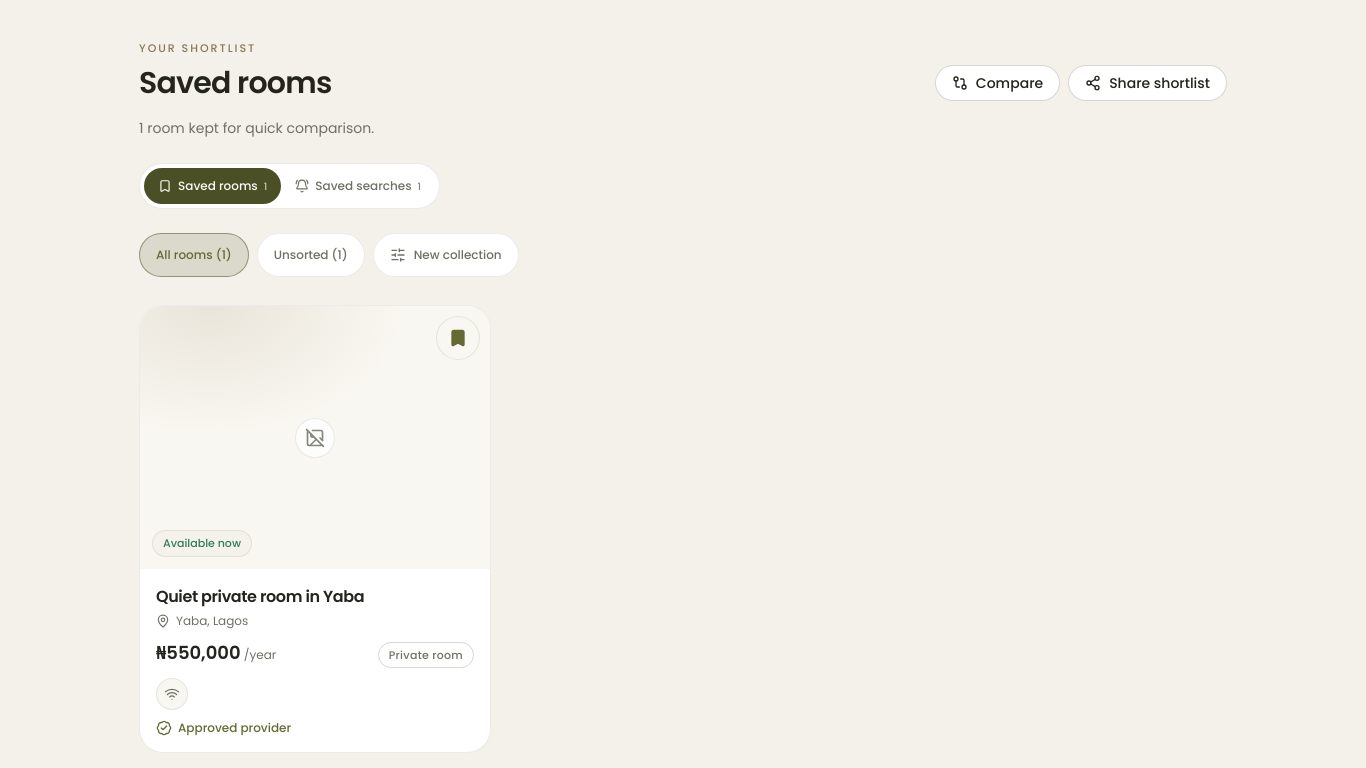
Saved searches tab › switches between rooms and searches from the view control
Expected: the link "Quiet private room in Yaba" is shown, [156,585,364,608]
Click the button "Saved searches 1".
click(358, 186)  # box [281,168,435,204]
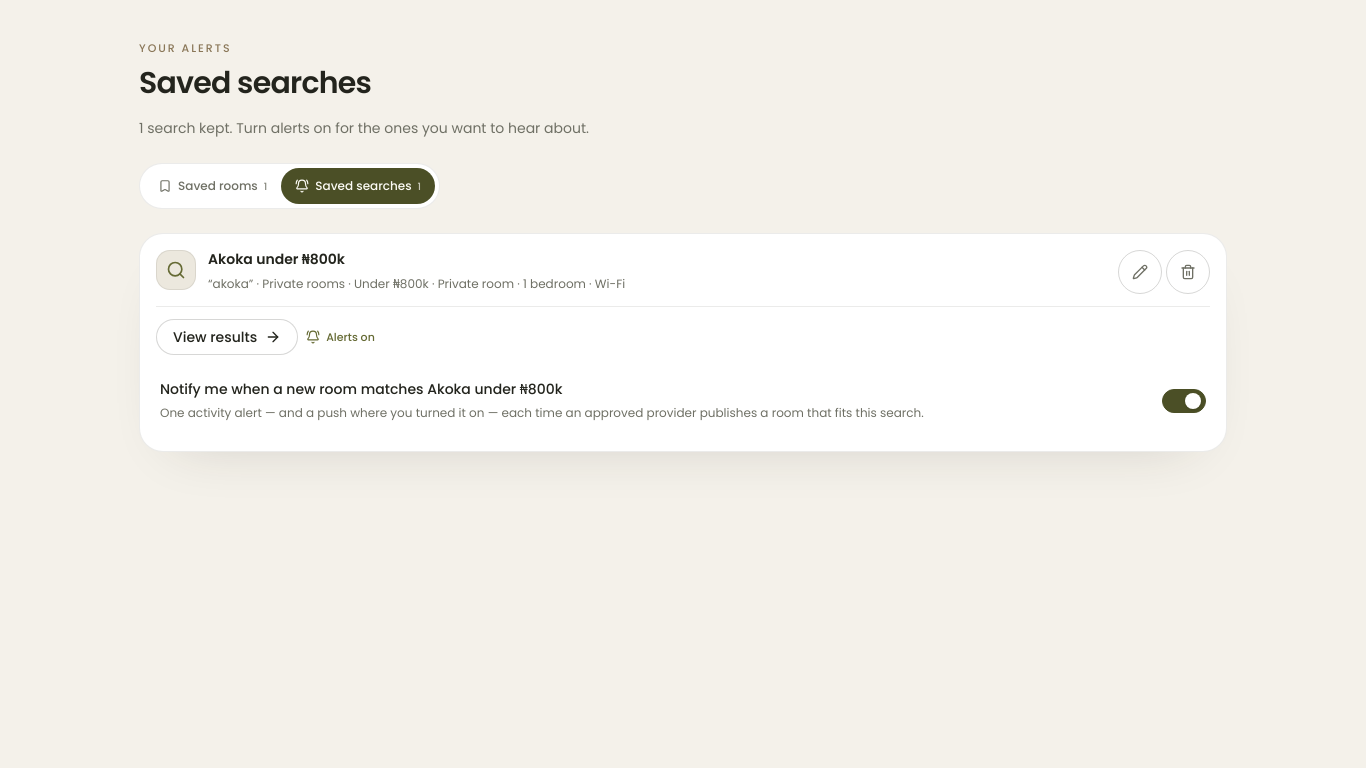
Expected: the heading "Akoka under ₦800k" is shown, [208,249,345,269]
Expected: the link "Quiet private room in Yaba" is gone
Click the button "Saved rooms 1".
click(213, 186)  # box [144,168,281,204]
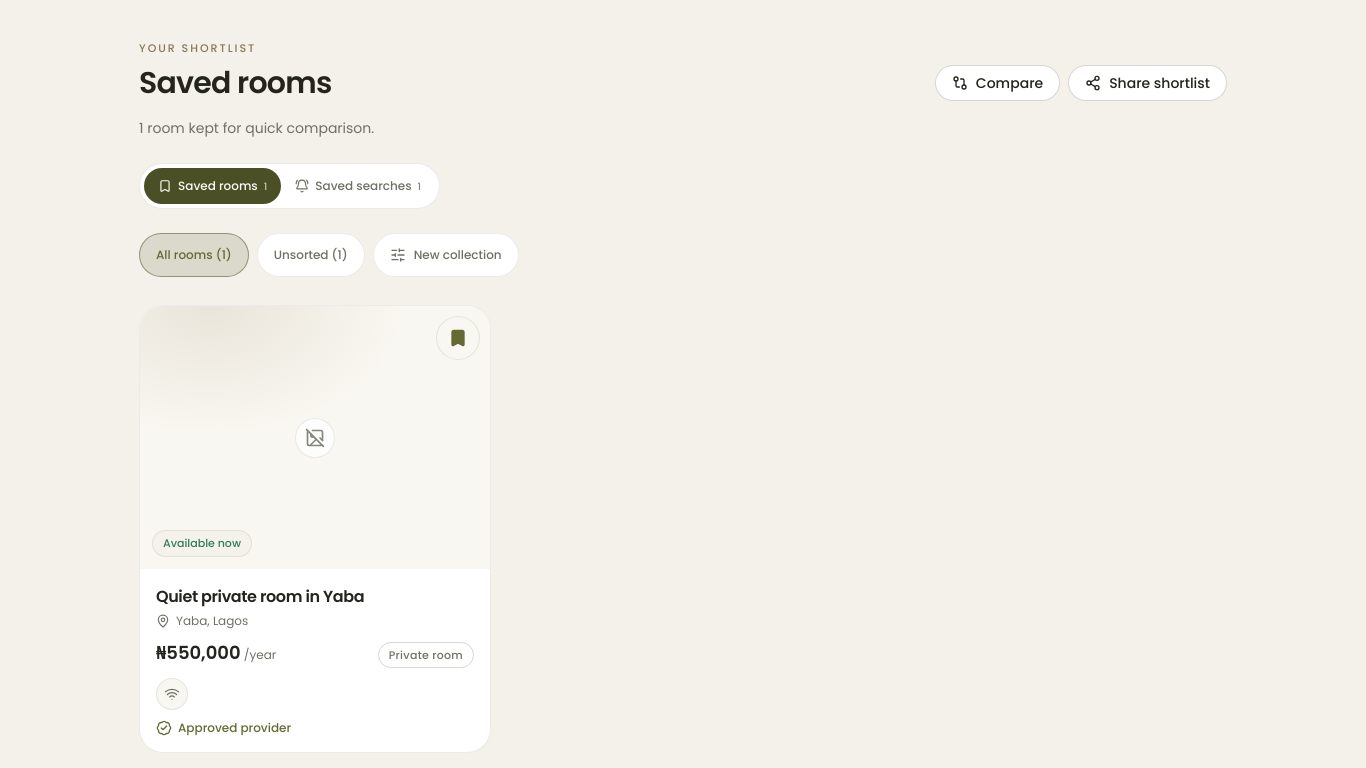
Expected: the link "Quiet private room in Yaba" is shown, [156,585,364,608]
